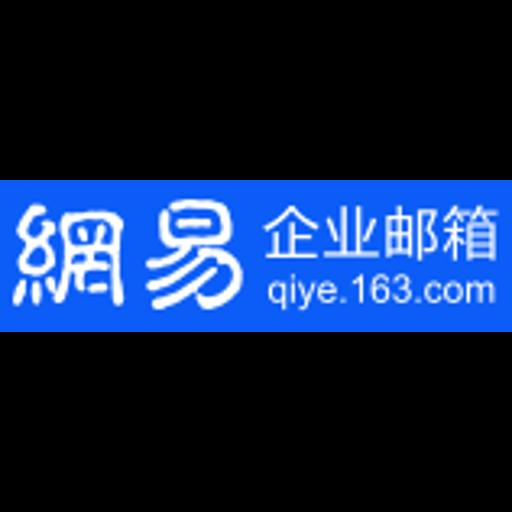NetEase: (0, 180, 512, 332)
